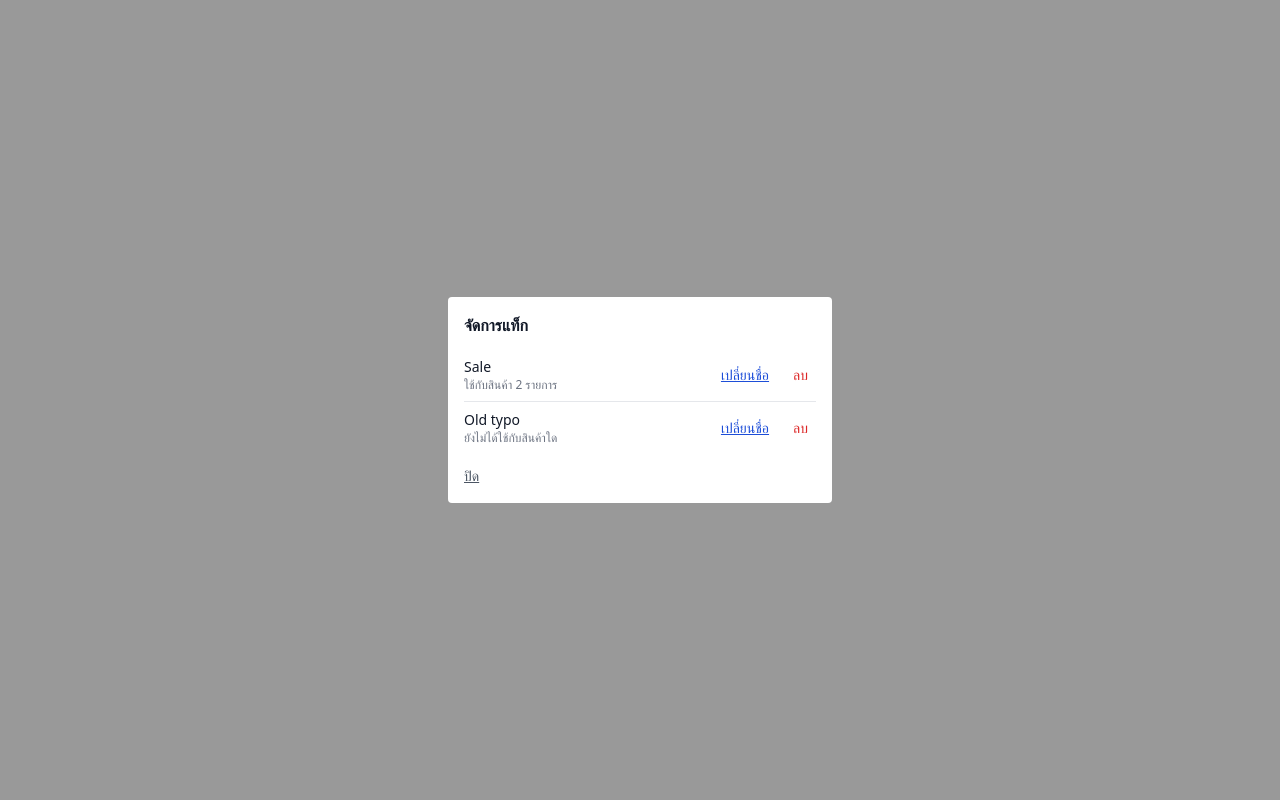
ManageTagsDialog › Rename opens a name box in the row and sends the new name
Click the button "เปลี่ยนชื่อ" next to "ใช้กับสินค้า 2 รายการ" at (745, 375), box [713, 357, 777, 393]
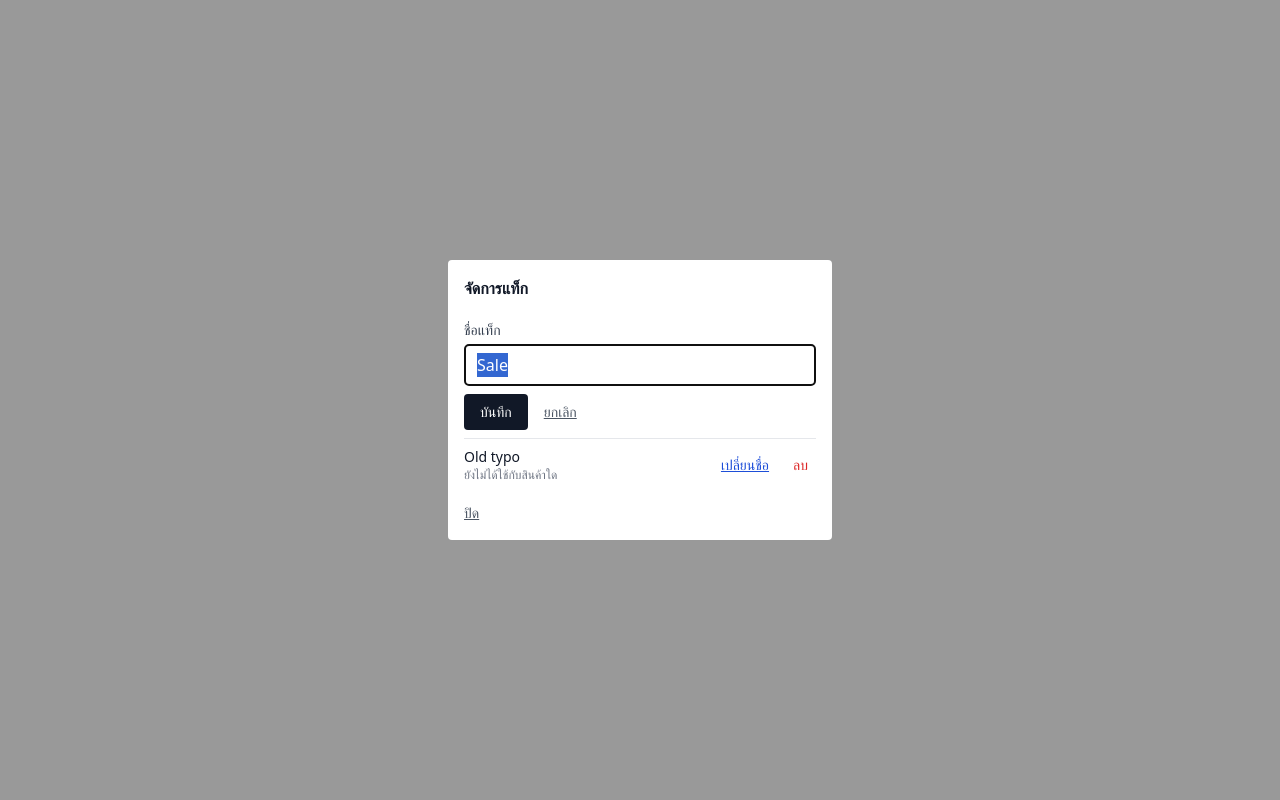
expect the field labelled "ชื่อแท็ก" holds "Sale": met
Replace the text in the field labelled "ชื่อแท็ก" with "Big sale" at (640, 365), box [464, 344, 816, 386]
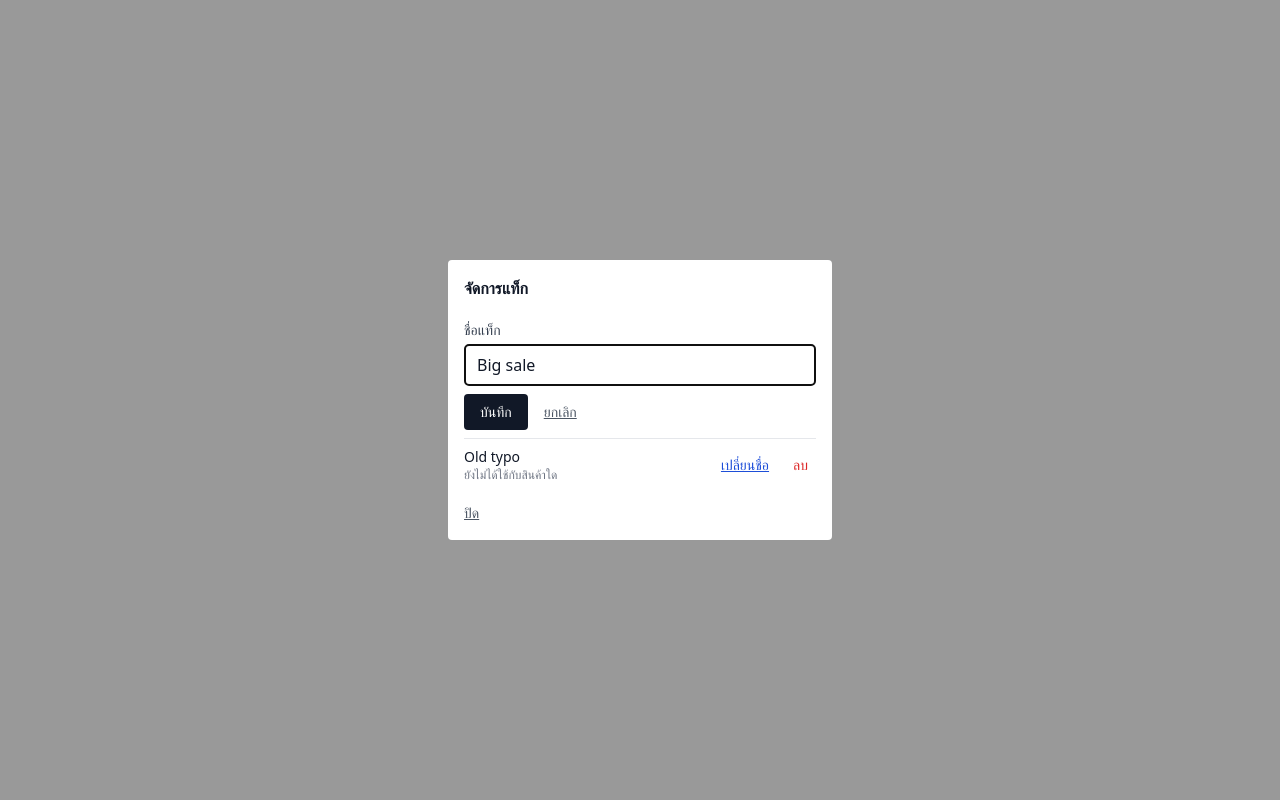
Submit the form labelled "ชื่อแท็ก", box [464, 320, 816, 430]
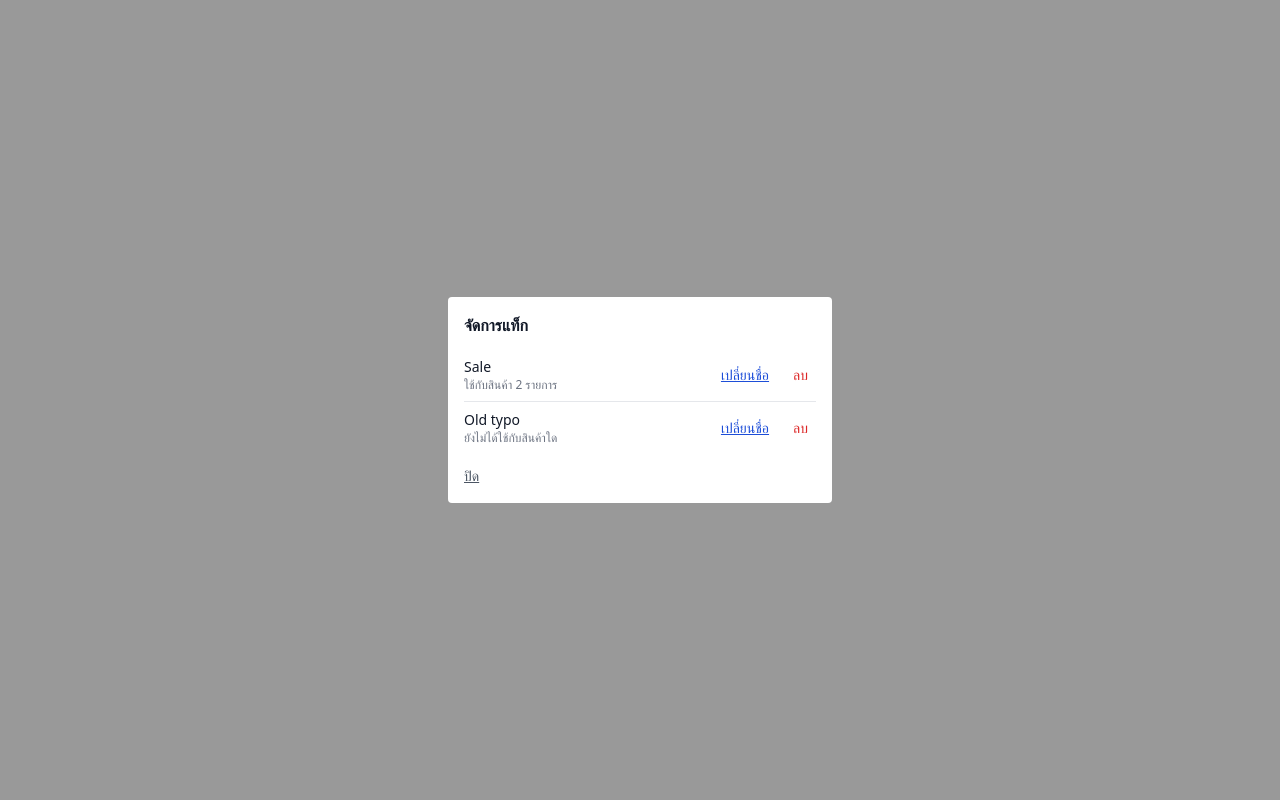
expect the text labelled "ชื่อแท็ก" is gone: met
